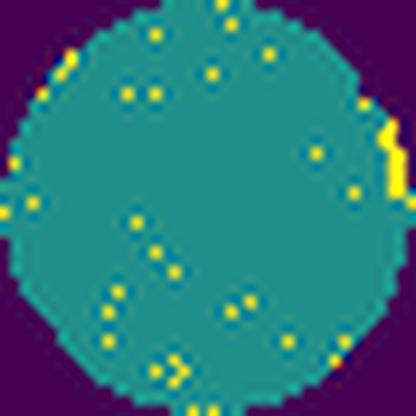Edge-Loc: (373, 116, 411, 206)
